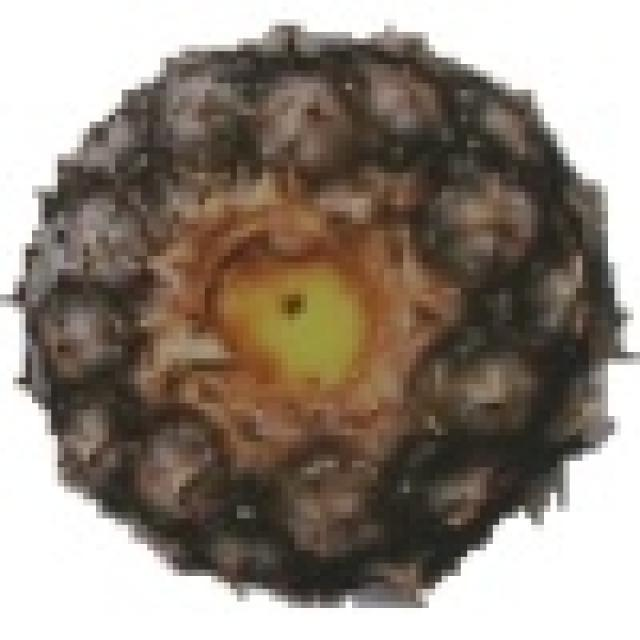pineapple: (19, 19, 602, 589)
